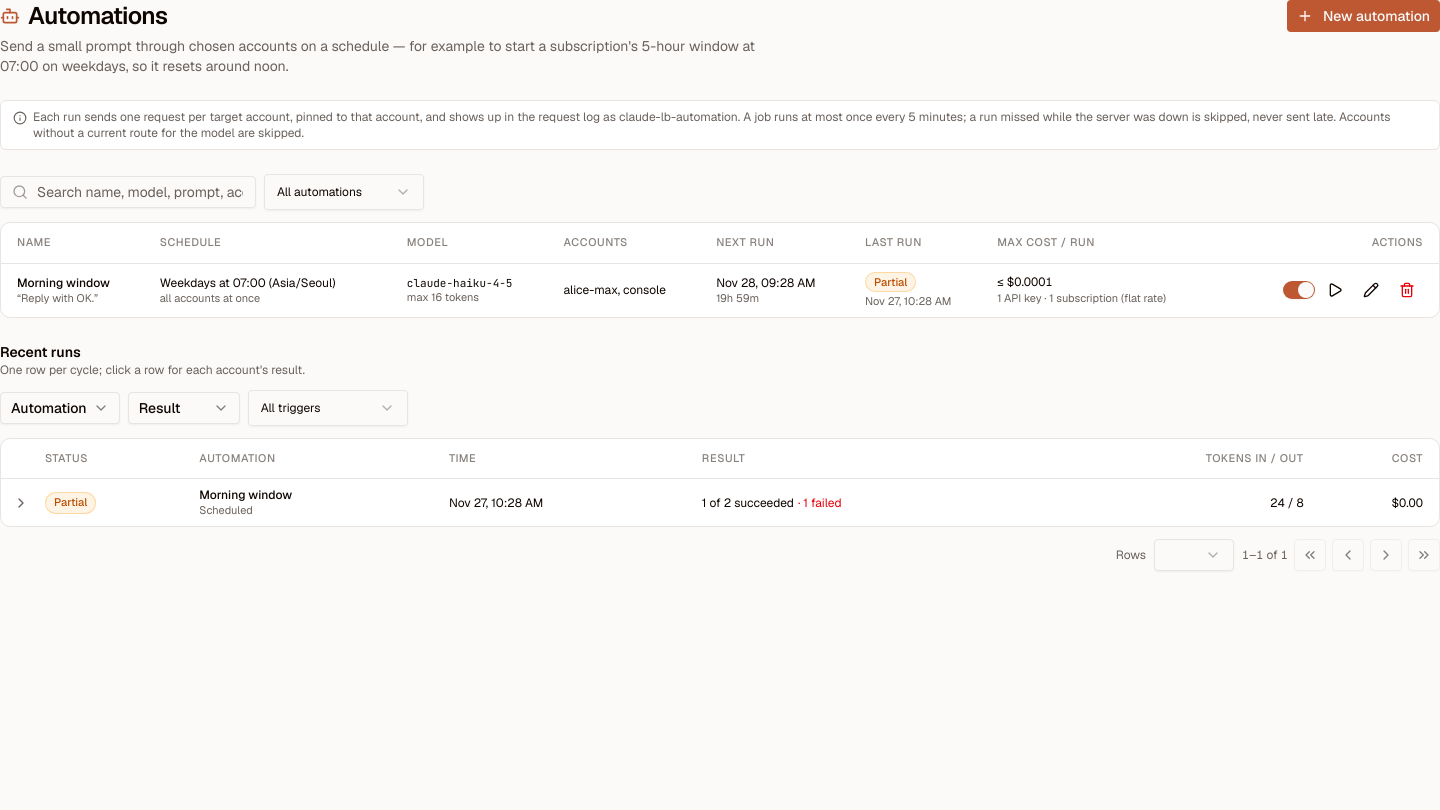
Test: AutomationsPage › deletes a job after confirmation
The width and height of the screenshot is (1440, 810).
expect the row with test id "automation-job_1" is shown: met, box [1,263,1439,317]
Click the button named "Delete Morning window" at (1407,290), box [1391,274,1423,306]
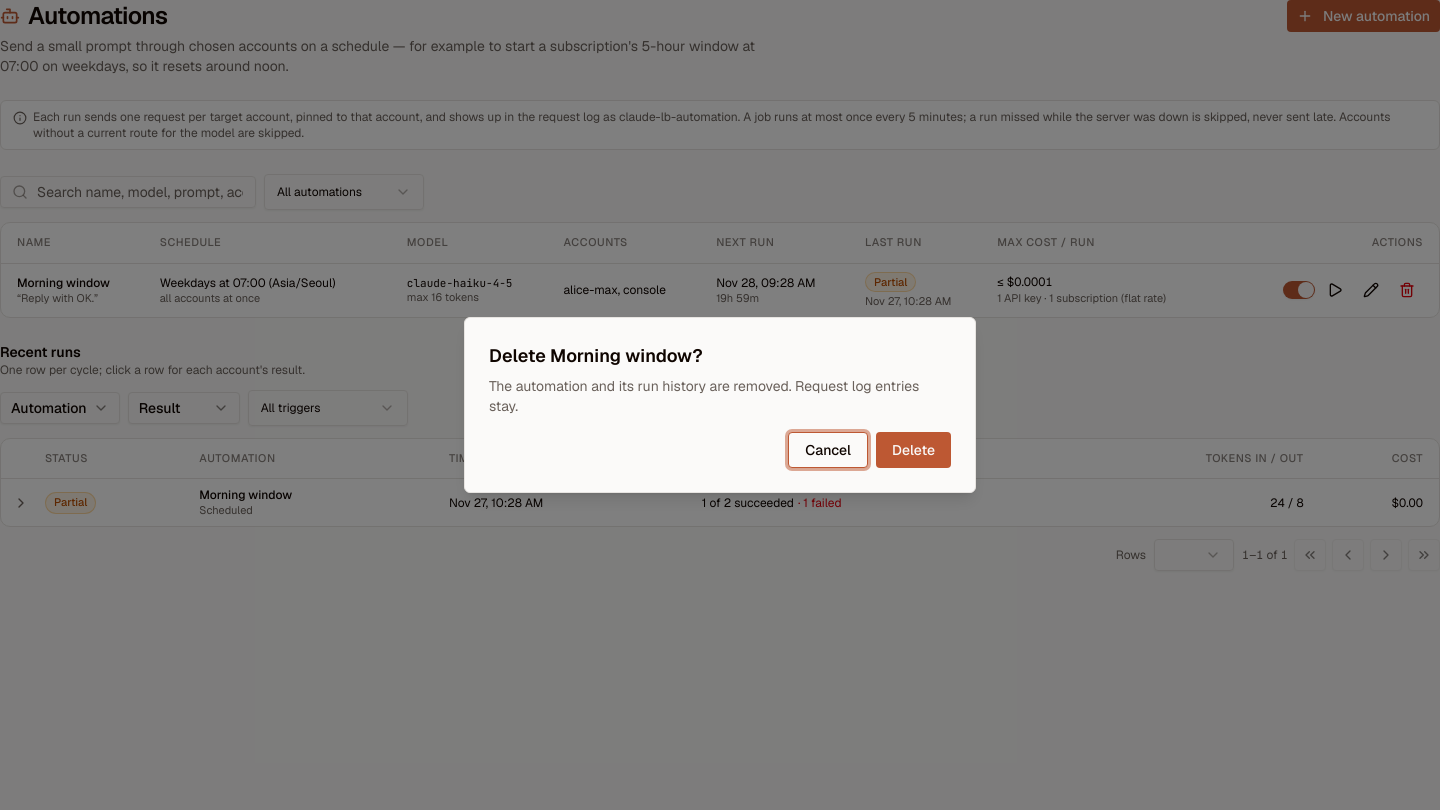
Click the button "Delete" at (913,450), box [876,432,951,468]
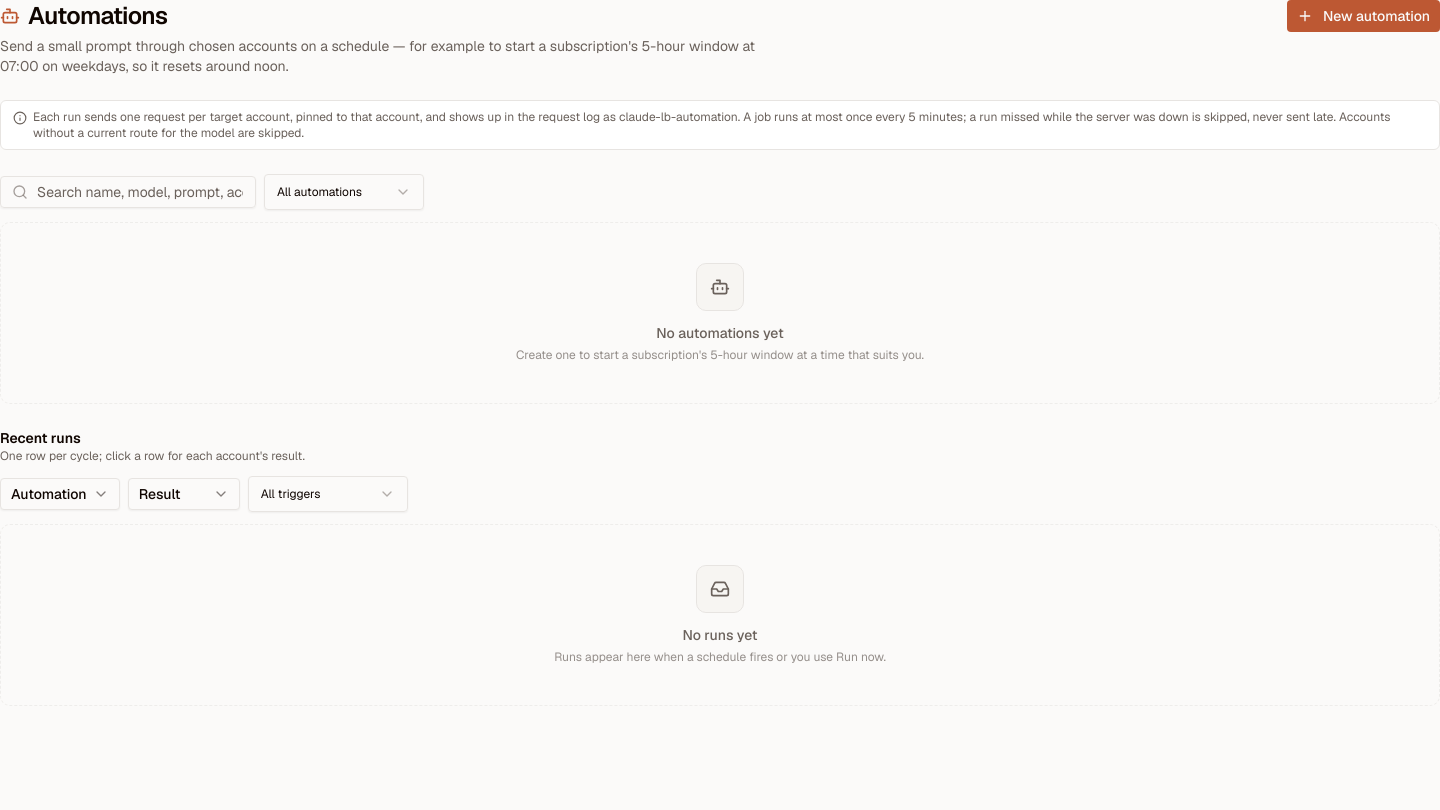
expect the text "No automations yet" is shown: met, box [656,324,784,342]
